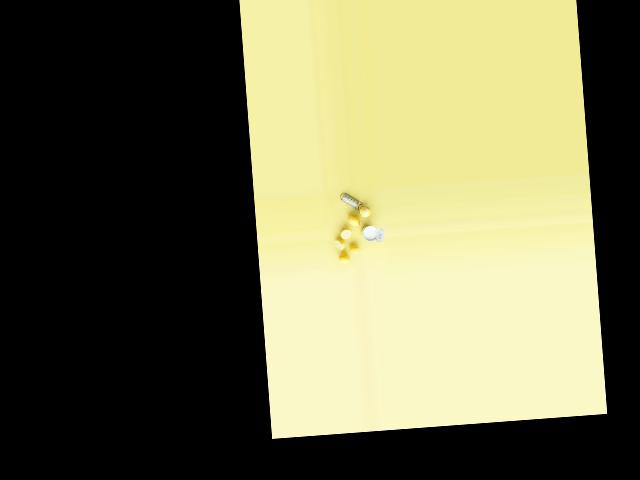lemon: (357, 207, 372, 219)
